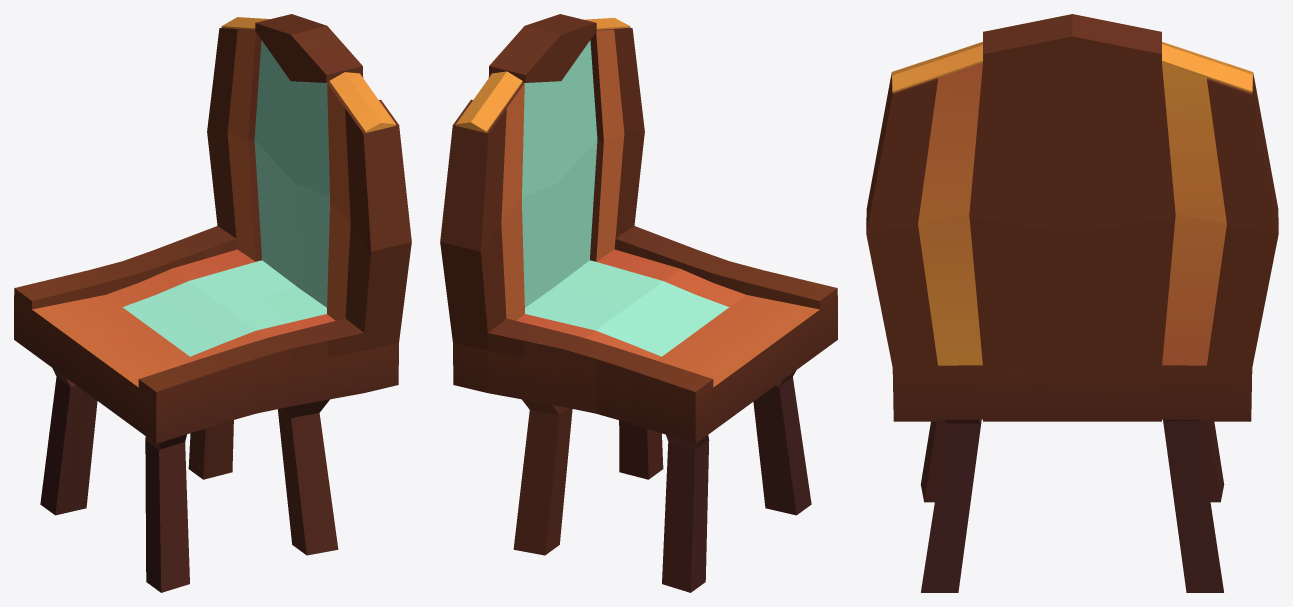
File: Prop_Chair_Wood.fbx
3 renders of one model, left to right at view 1: azimuth 30°, elevation 25°; view 2: azimuth 150°, elevation 25°; view 3: azimuth 270°, elevation 25°, orthographic. The views are drawn at different scales.
Parts seen in each view (by area): view 1: Chair; view 2: Chair; view 3: Chair.
Boxes of the visible parts, left/top/right/bottom form: Chair: left=14, top=14, right=411, bottom=592; Chair: left=440, top=14, right=837, bottom=592; Chair: left=866, top=14, right=1278, bottom=592.
Bounding box in the file's own units: 37.67 × 68.84 × 43.83.
